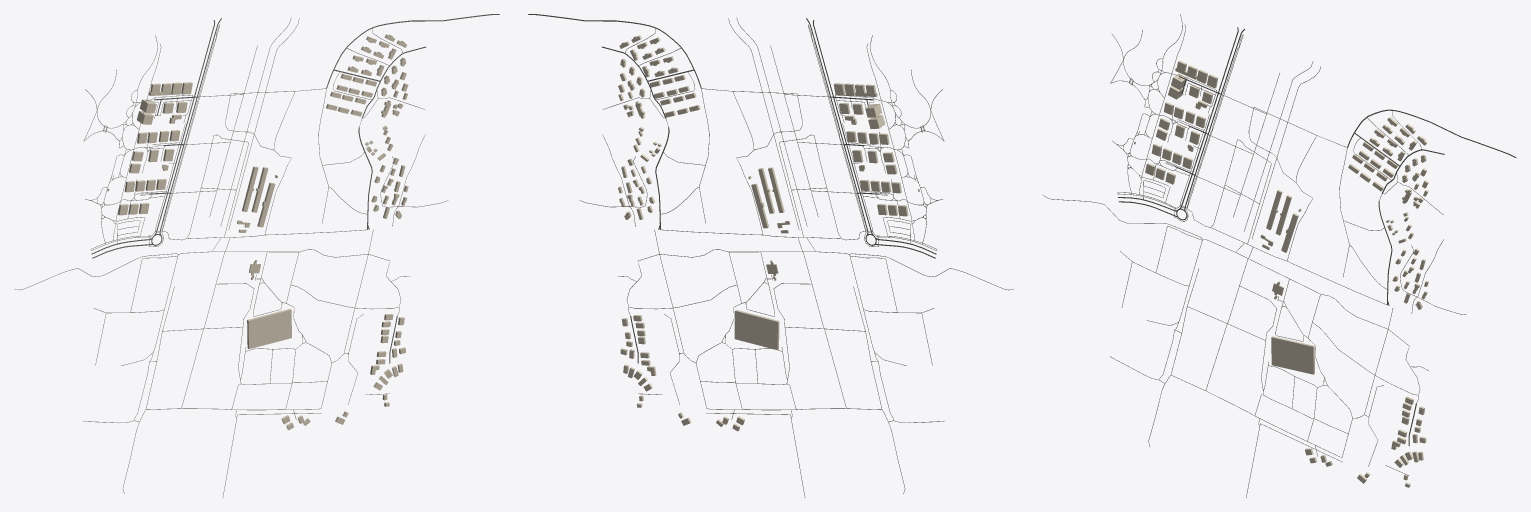
The model's file is historic-palestine-06_27_3482_3215.glb.
3 renders of one model, left to right at view 1: azimuth 30°, elevation 25°; view 2: azimuth 150°, elevation 25°; view 3: azimuth 330°, elevation 25°, orthographic. The views are drawn at different scales.
Bounding box in the file's own units: 1470 × 1389 × 32.2.
